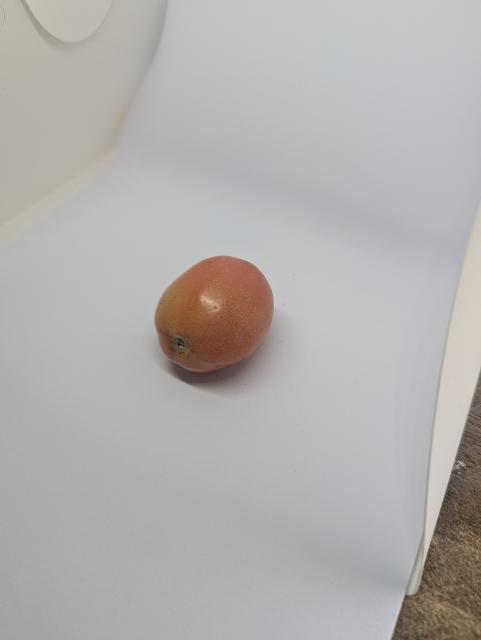red: (151, 252, 281, 380)
